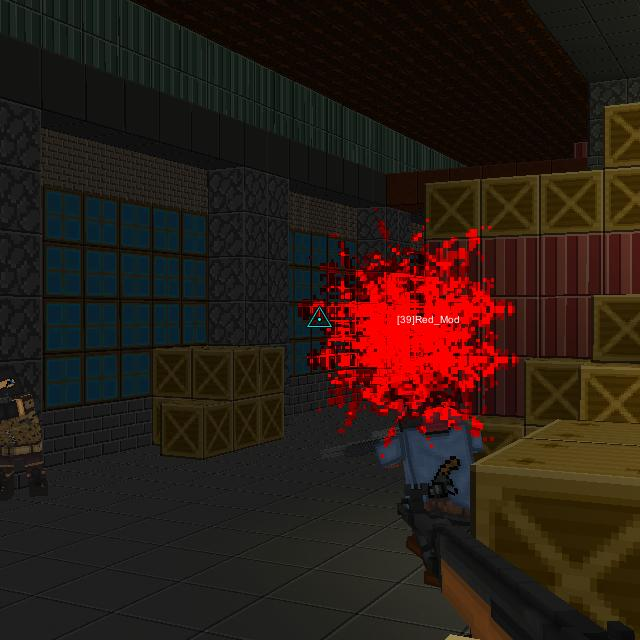enemy: (0, 362, 51, 501)
